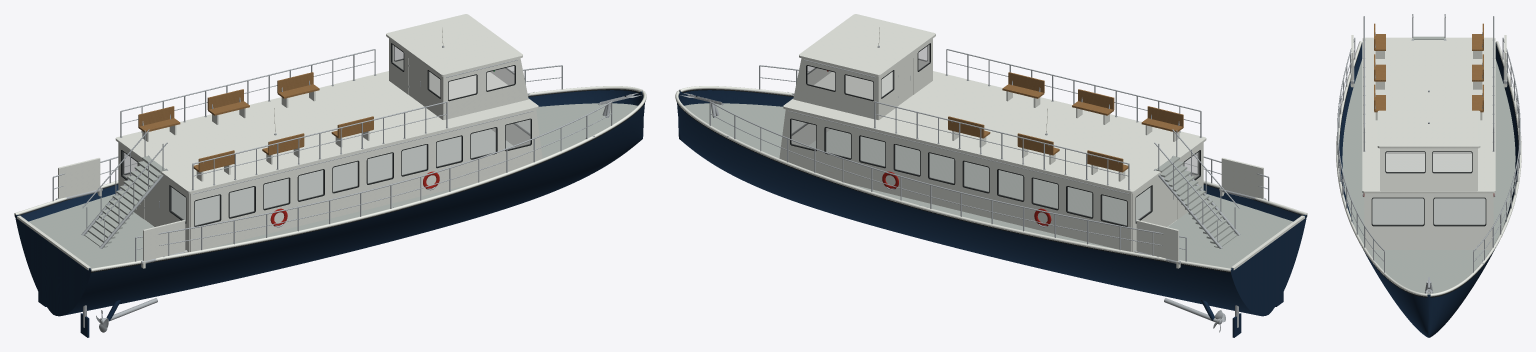
Rendered from ship-ferry-hq.glb.
3 views of the same model, side by side, from view 1: azimuth 30°, elevation 25°; view 2: azimuth 150°, elevation 25°; view 3: azimuth 270°, elevation 25° (orthographic). The views are drawn at different scales.
Parts seen in each view (by area): view 1: Finite lofted hull and transom, Passenger saloon overhanging finite roof, Seated continuous cockpit deck, Passenger saloon side -1 cut wall, Raised wheelhouse overhanging finite roof, Raised wheelhouse side -1 cut wall, Finite rolled gunwale -1, Stowed finite boarding gate 1, Stowed finite boarding gate -1, Raised wheelhouse rear cut wall, Passenger saloon rear cut wall, Peripheral rail -1 continuous handrail (+26 smaller); view 2: Finite lofted hull and transom, Passenger saloon overhanging finite roof, Seated continuous cockpit deck, Passenger saloon side 1 cut wall, Raised wheelhouse overhanging finite roof, Raised wheelhouse side 1 cut wall, Finite rolled gunwale 1, Stowed finite boarding gate -1, Stowed finite boarding gate 1, Raised wheelhouse rear cut wall, Passenger saloon rear cut wall, Peripheral rail 1 continuous handrail (+26 smaller); view 3: Passenger saloon overhanging finite roof, Seated continuous cockpit deck, Passenger saloon raked front cut wall, Raised wheelhouse overhanging finite roof, Finite lofted hull and transom, Raised wheelhouse raked front cut wall, Passenger saloon raked front opening 1 finite glazing, Passenger saloon raked front opening 2 finite glazing, Finite rolled gunwale 1, Finite rolled gunwale -1, Raised wheelhouse raked front opening 1 finite glazing, Raised wheelhouse raked front opening 2 finite glazing (+18 smaller).
Part boxes in pixels (left/top/right/bottom): Finite lofted hull and transom: left=15, top=90, right=644, bottom=316; Passenger saloon overhanging finite roof: left=115, top=71, right=538, bottom=193; Seated continuous cockpit deck: left=29, top=103, right=637, bottom=268; Passenger saloon side -1 cut wall: left=190, top=109, right=541, bottom=251; Raised wheelhouse overhanging finite roof: left=386, top=14, right=522, bottom=76; Raised wheelhouse side -1 cut wall: left=443, top=58, right=528, bottom=119; Finite rolled gunwale -1: left=90, top=91, right=646, bottom=271; Stowed finite boarding gate 1: left=58, top=158, right=100, bottom=198; Stowed finite boarding gate -1: left=143, top=220, right=185, bottom=261; Raised wheelhouse rear cut wall: left=389, top=38, right=443, bottom=119; Passenger saloon rear cut wall: left=118, top=142, right=189, bottom=251; Peripheral rail -1 continuous handrail: left=135, top=101, right=611, bottom=238; Finite lofted hull and transom: left=677, top=90, right=1306, bottom=316; Passenger saloon overhanging finite roof: left=783, top=71, right=1206, bottom=193; Seated continuous cockpit deck: left=684, top=103, right=1292, bottom=268; Passenger saloon side 1 cut wall: left=780, top=109, right=1131, bottom=251; Raised wheelhouse overhanging finite roof: left=799, top=14, right=935, bottom=76; Raised wheelhouse side 1 cut wall: left=793, top=58, right=878, bottom=119; Finite rolled gunwale 1: left=675, top=91, right=1231, bottom=271; Stowed finite boarding gate -1: left=1221, top=158, right=1263, bottom=198; Stowed finite boarding gate 1: left=1136, top=220, right=1178, bottom=261; Raised wheelhouse rear cut wall: left=878, top=38, right=932, bottom=119; Passenger saloon rear cut wall: left=1132, top=142, right=1203, bottom=251; Peripheral rail 1 continuous handrail: left=710, top=101, right=1186, bottom=238; Passenger saloon overhanging finite roof: left=1362, top=37, right=1495, bottom=193; Seated continuous cockpit deck: left=1342, top=59, right=1515, bottom=294; Passenger saloon raked front cut wall: left=1365, top=193, right=1492, bottom=249; Raised wheelhouse overhanging finite roof: left=1377, top=110, right=1480, bottom=148; Finite lofted hull and transom: left=1339, top=42, right=1518, bottom=337; Raised wheelhouse raked front cut wall: left=1380, top=148, right=1477, bottom=191; Passenger saloon raked front opening 1 finite glazing: left=1434, top=198, right=1485, bottom=224; Passenger saloon raked front opening 2 finite glazing: left=1372, top=198, right=1423, bottom=224; Finite rolled gunwale 1: left=1430, top=41, right=1521, bottom=296; Finite rolled gunwale -1: left=1336, top=41, right=1427, bottom=296; Raised wheelhouse raked front opening 1 finite glazing: left=1433, top=152, right=1471, bottom=171; Raised wheelhouse raked front opening 2 finite glazing: left=1386, top=152, right=1424, bottom=171.
Bounding box in the file's own units: 25.09 × 8.16 × 7.57.
Materials: 12 (12 with a texture image).
